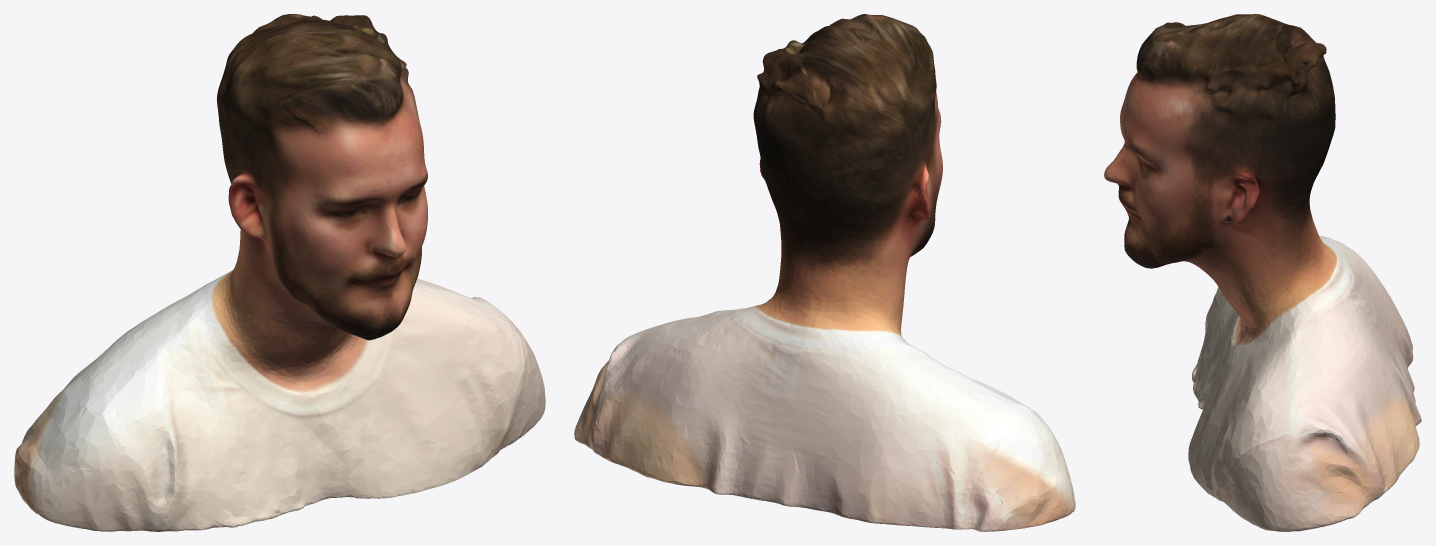
The picture shows the model from 3 angles, left to right: view 1: azimuth 30°, elevation 25°; view 2: azimuth 150°, elevation 25°; view 3: azimuth 270°, elevation 25°; orthographic projection. The views are drawn at different scales.
Bounding box in the file's own units: 0.525 × 0.4492 × 0.3176.
1 material, 1 textured.
